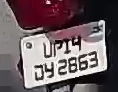1: (62, 36, 71, 56)
2: (58, 58, 67, 77)
3: (88, 50, 101, 69)
4: (71, 34, 84, 54)
6: (77, 54, 89, 72)
8: (68, 56, 78, 74)
D: (33, 63, 45, 82)
P: (52, 39, 63, 58)
U: (40, 41, 54, 59)
Y: (44, 63, 54, 78)
